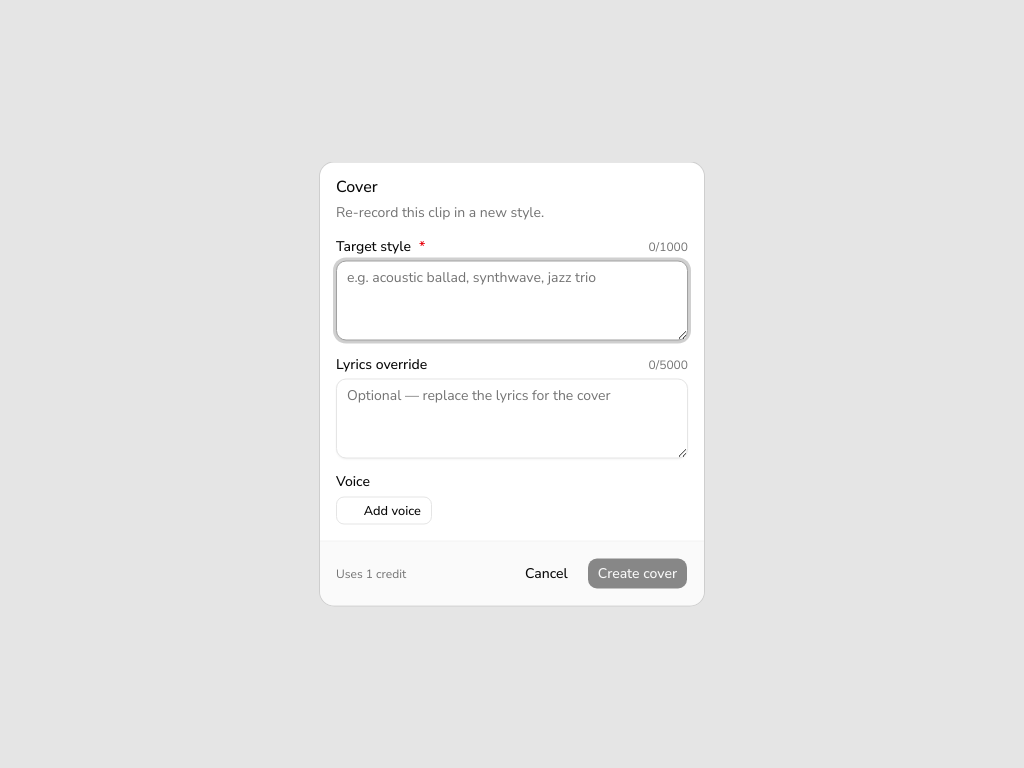
CoverModal › submits the cover payload and reaches success
The image size is (1024, 768).
In the text box labelled "Target style *": (512, 300) [336, 260, 688, 340], type "acoustic ballad"
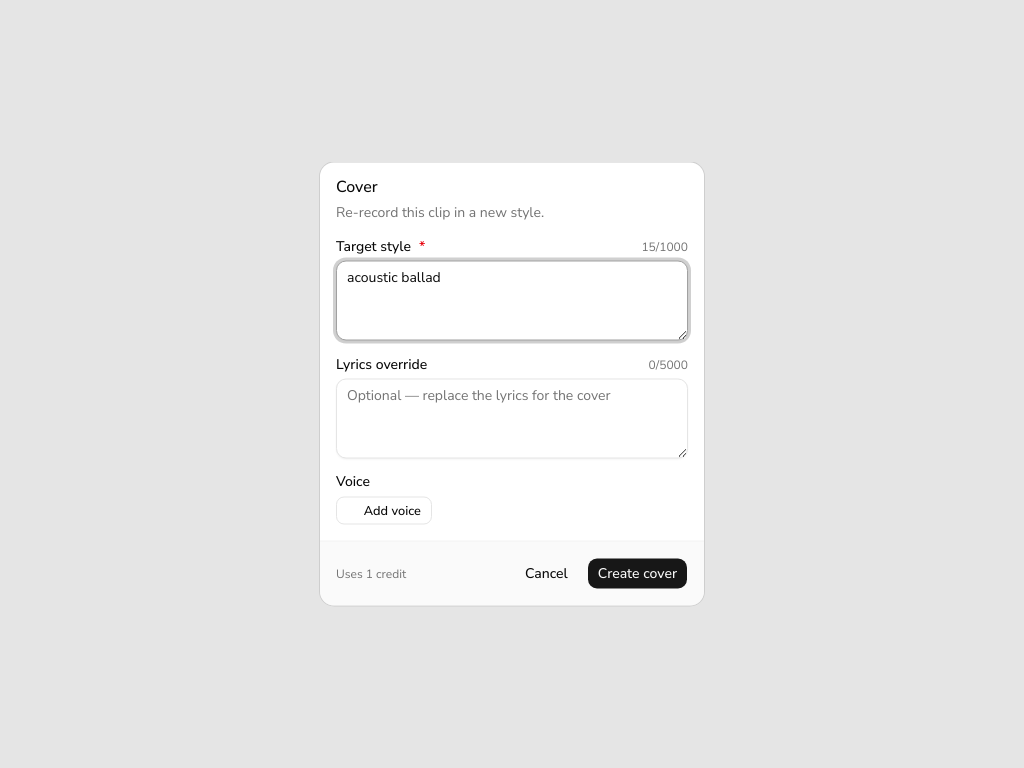
Click the button "Create cover": (637, 574) [587, 558, 688, 590]
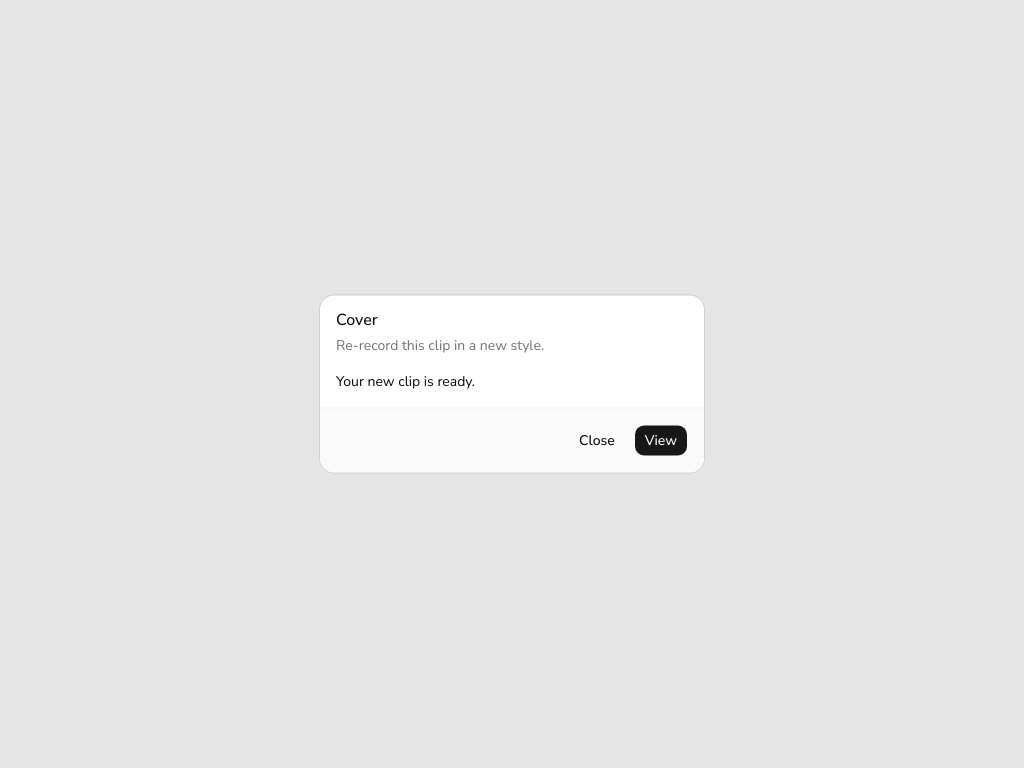
Expected: the text "Your new clip is ready." is shown, [336, 372, 475, 390]
